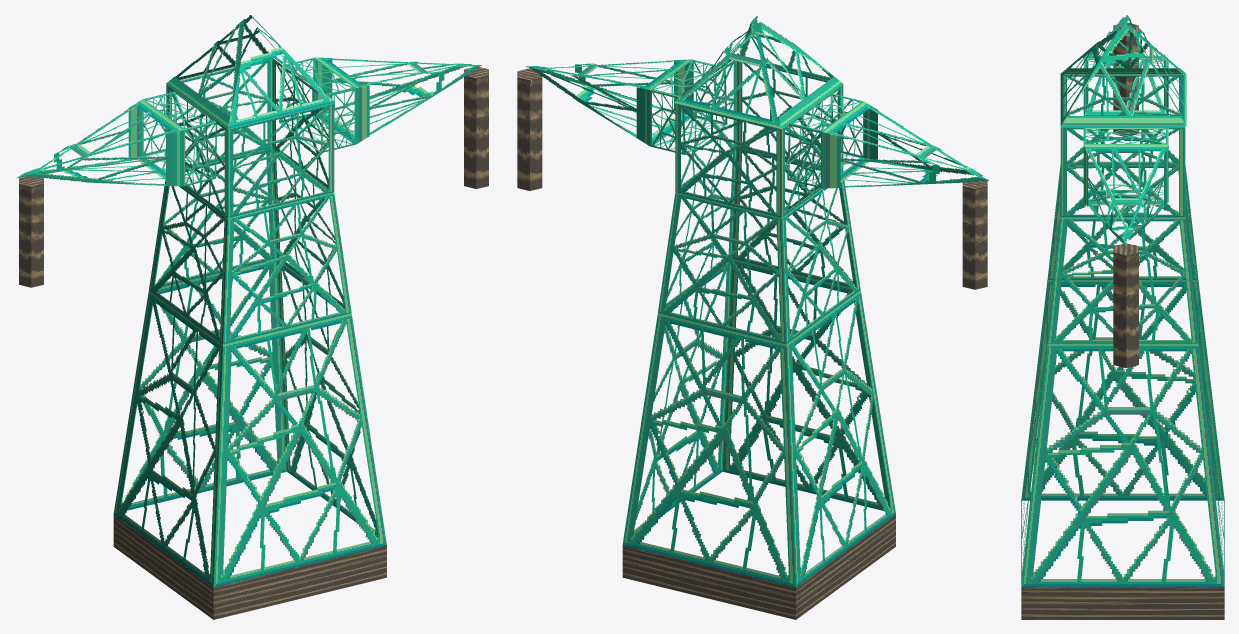
The model's file is pylon.glb.
3 renders of one model, left to right at view 1: azimuth 30°, elevation 25°; view 2: azimuth 150°, elevation 25°; view 3: azimuth 270°, elevation 25°, orthographic.
Visible parts, largest first — view 1: pylon2; view 2: pylon2; view 3: pylon2.
Part boxes in pixels (x1,y1,x2,y2): pylon2: [17, 15, 488, 619]; pylon2: [517, 16, 988, 619]; pylon2: [1021, 15, 1224, 619].
Size of the model in its own units: 37.62 by 41.48 by 13.73.
Materials: 2 (2 with a texture image).
